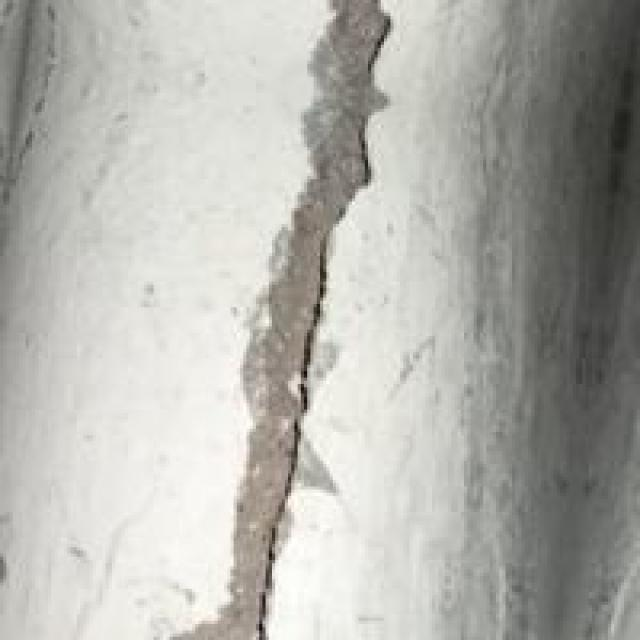Crack: (208, 3, 445, 637)
